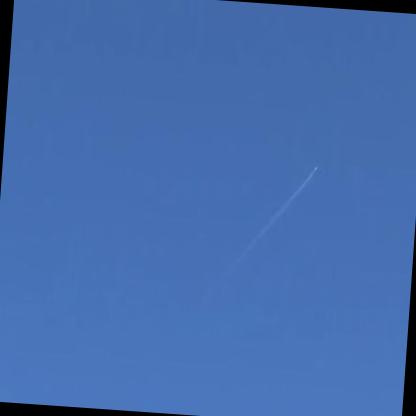plane: (310, 159, 321, 176)
